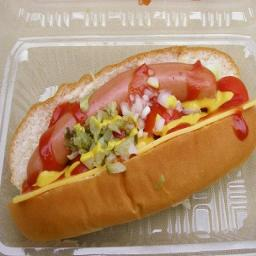hotdog: (6, 47, 256, 256)
